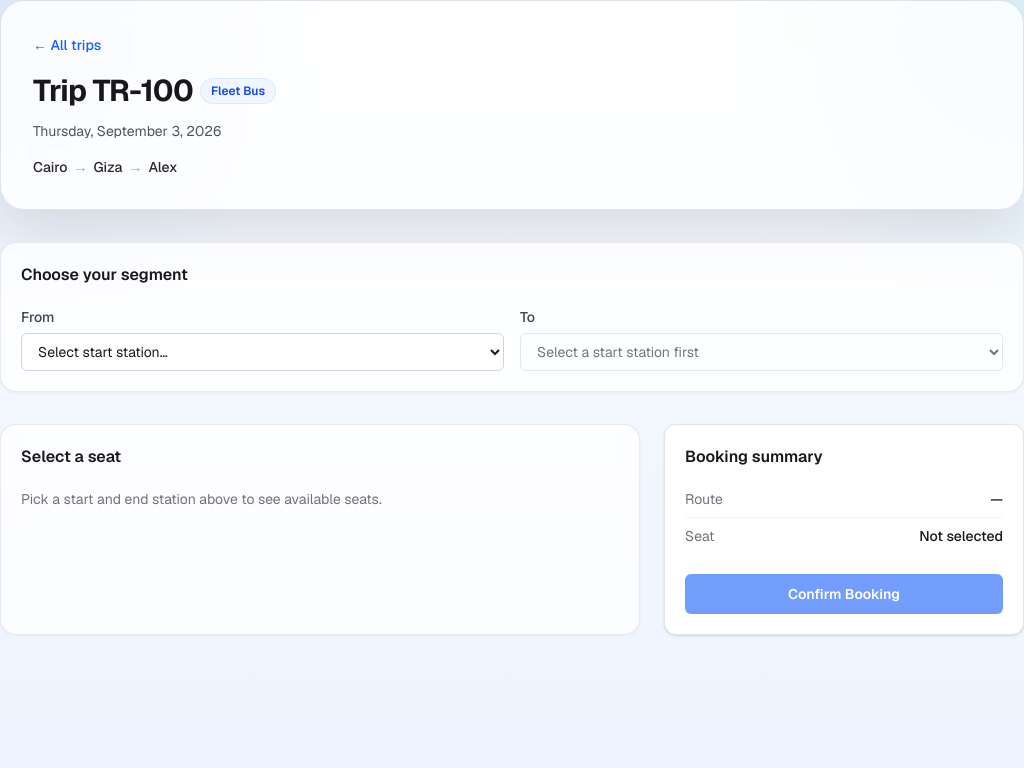
Test: Trip detail booking page › handles booking conflict when seat becomes unavailable before submit
Select "Cairo" in the dropdown labelled "From" at (262, 352), box [21,333,504,371]
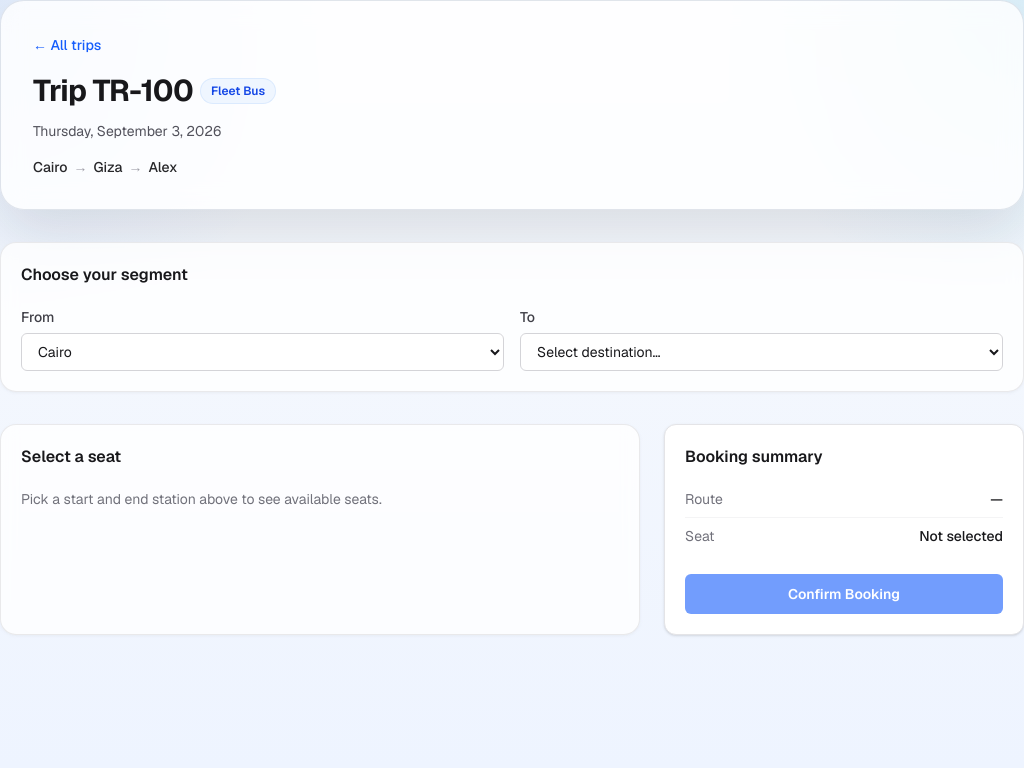
Select "Giza" in the dropdown labelled "To" at (762, 352), box [520,333,1003,371]
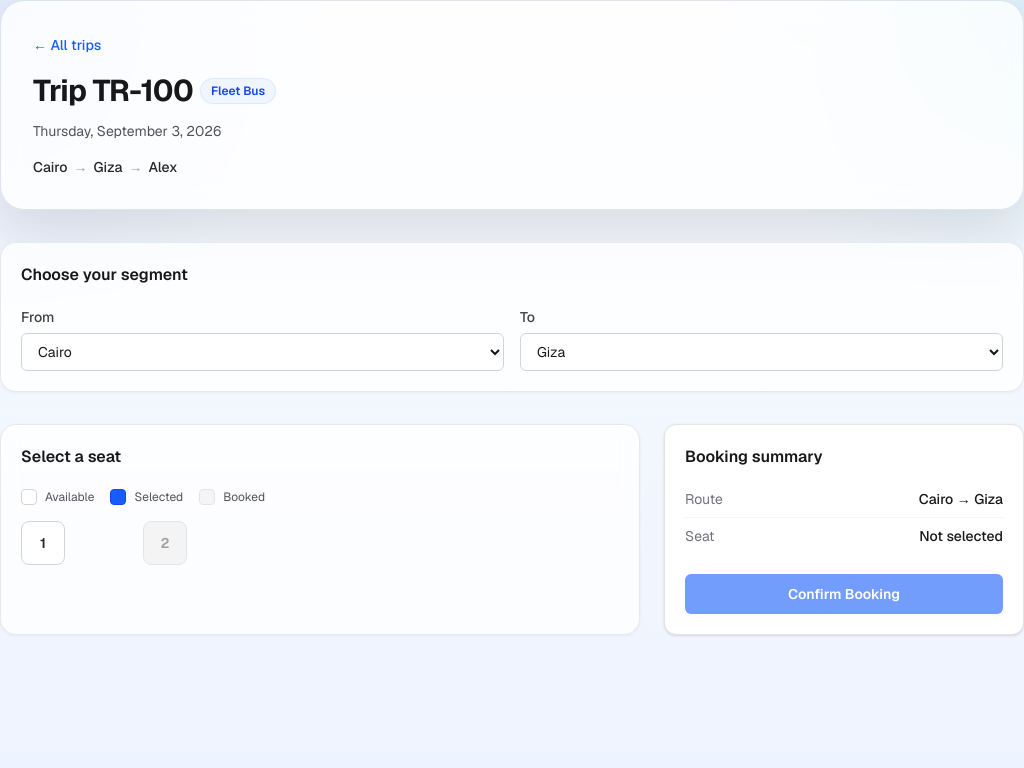
Expected: the element named "Seats grid" is shown, [21,521,187,565]
Click the button named "Seat 1 — available" at (43, 543), box [21,521,65,565]
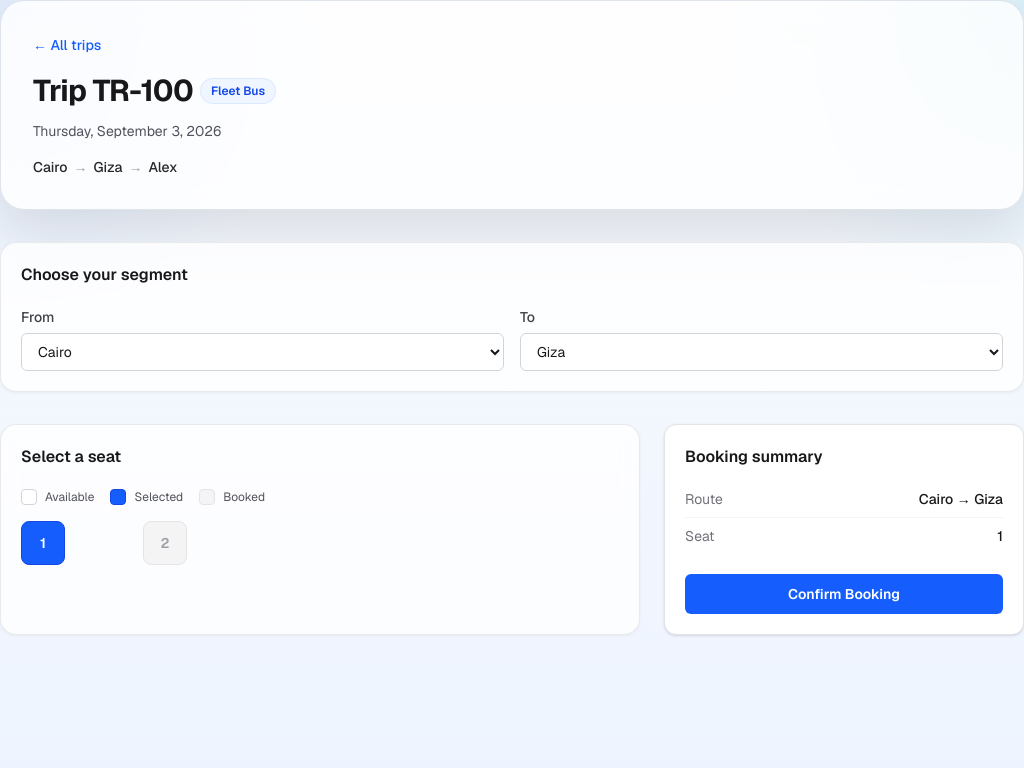
Click the button "Confirm Booking" at (844, 594), box [685,574,1003,614]
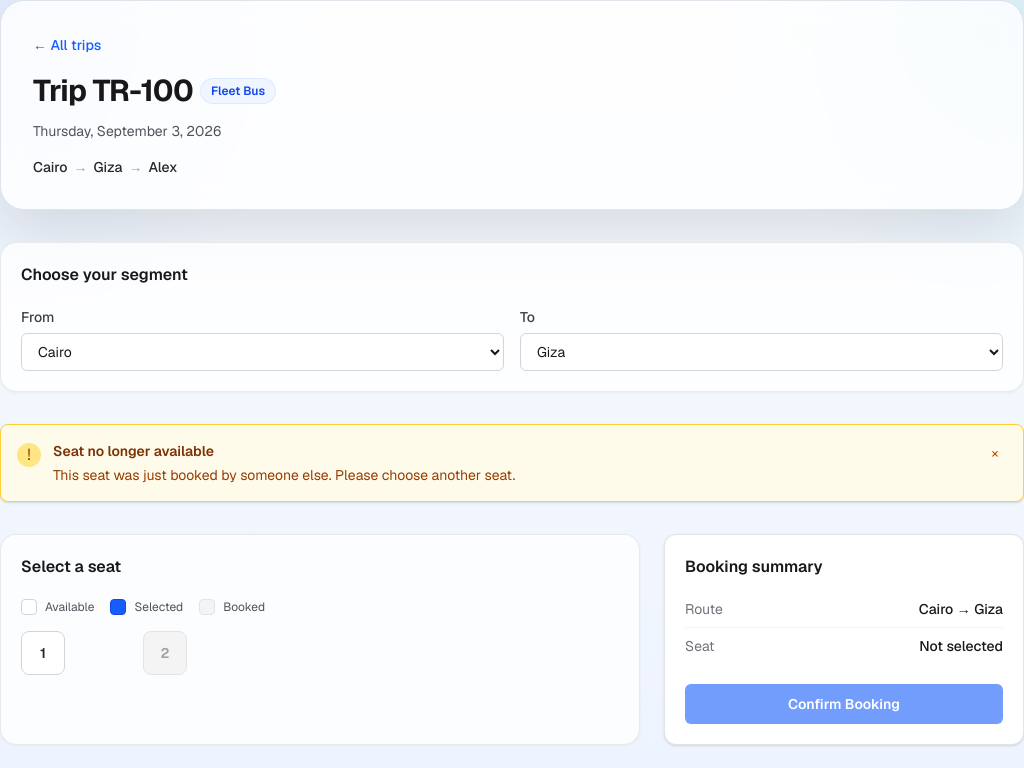
Expected: the heading "Seat no longer available" is shown, [53,442,214,460]
Expected: the button "Confirm Booking" is disabled, [685,684,1003,724]
